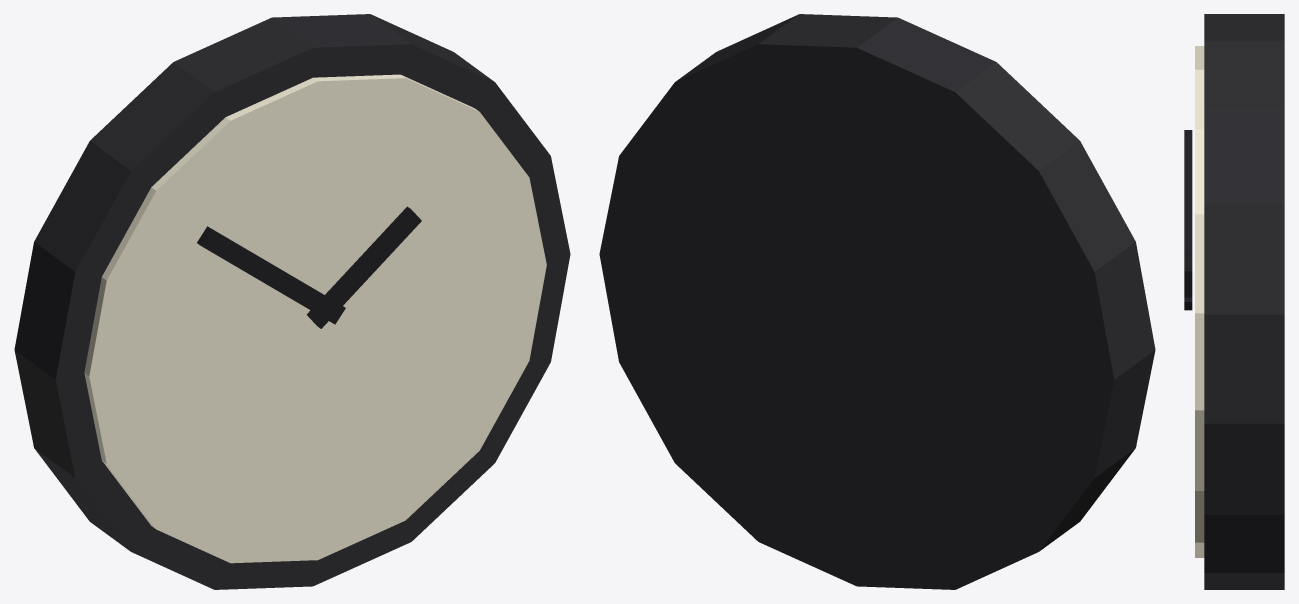
File: wall_clock.glb
The picture shows the model from 3 angles, left to right: view 1: azimuth 30°, elevation 25°; view 2: azimuth 150°, elevation 25°; view 3: azimuth 270°, elevation 25°; orthographic projection. The views are drawn at different scales.
Visible parts, largest first — view 1: face_int_clock_face, rim_int_clock_rim, hands_int_clock_hand; view 2: rim_int_clock_rim; view 3: rim_int_clock_rim, face_int_clock_face, hands_int_clock_hand.
Part boxes in pixels (left/top/right/bottom): face_int_clock_face: left=84, top=74, right=546, bottom=563; rim_int_clock_rim: left=14, top=14, right=570, bottom=589; hands_int_clock_hand: left=197, top=206, right=421, bottom=328; rim_int_clock_rim: left=599, top=14, right=1155, bottom=589; rim_int_clock_rim: left=1204, top=14, right=1284, bottom=589; face_int_clock_face: left=1195, top=46, right=1204, bottom=557; hands_int_clock_hand: left=1184, top=130, right=1192, bottom=310.
Size of the model in its own units: 0.36 by 0.36 by 0.0625.
